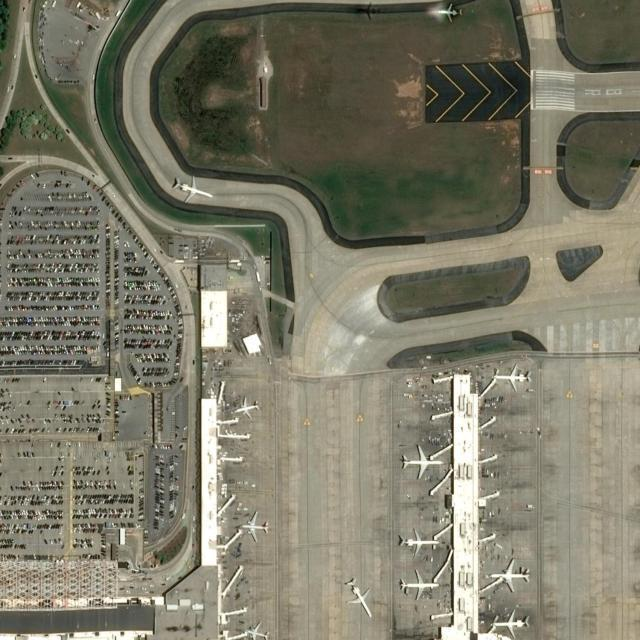Aircraft: (400, 442, 443, 481), (488, 555, 530, 592), (398, 567, 439, 603), (396, 526, 440, 558), (490, 362, 532, 394), (488, 607, 530, 639), (343, 576, 373, 618), (237, 508, 270, 544), (232, 395, 260, 419), (243, 618, 269, 640)
